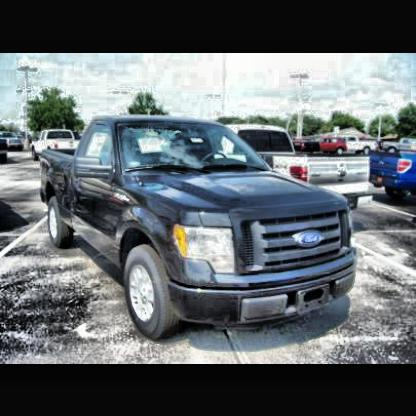Ford F-150 Regular Cab 2012: (41, 115, 358, 343)
